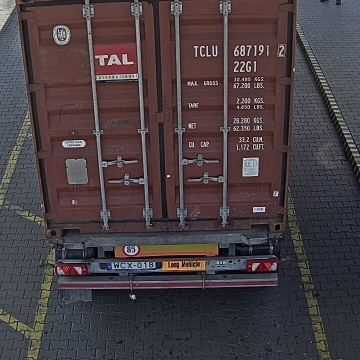serial_id: (194, 44, 285, 56)
